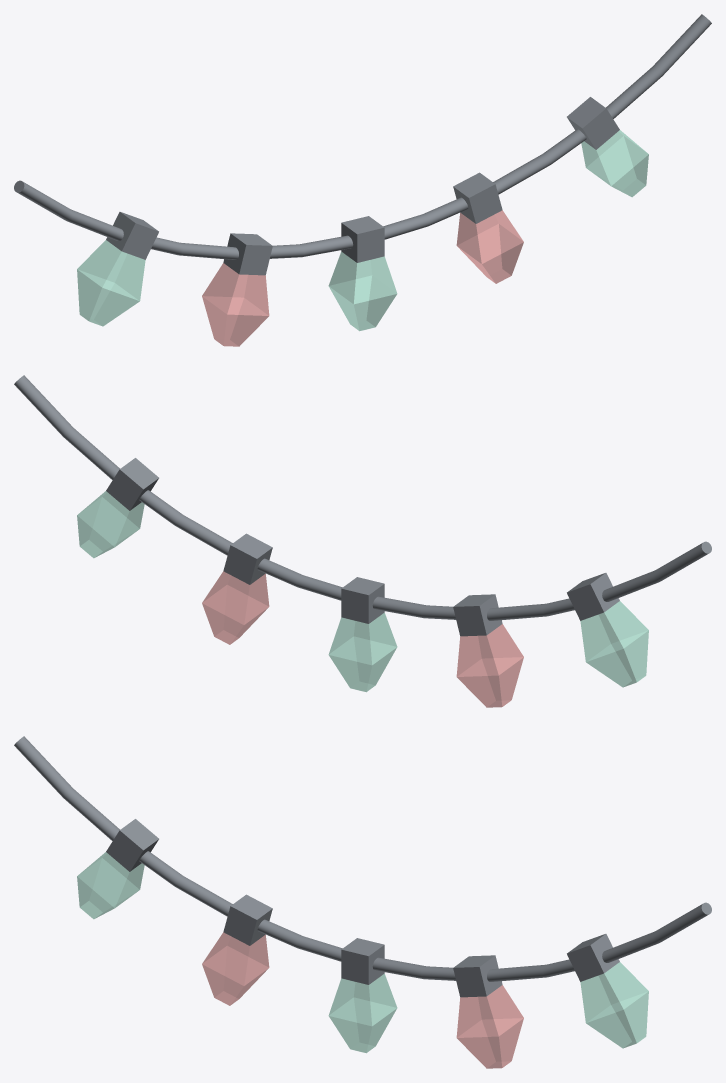
The model's file is lightsMulti.glb.
3 views of the same model, one above another, from view 1: azimuth 30°, elevation 25°; view 2: azimuth 150°, elevation 25°; view 3: azimuth 330°, elevation 25° (orthographic).
Visible parts, largest first — view 1: lightsMulti(Clone); view 2: lightsMulti(Clone); view 3: lightsMulti(Clone).
Part boxes in pixels (left/top/right/bottom): lightsMulti(Clone): left=14, top=14, right=711, bottom=346; lightsMulti(Clone): left=14, top=375, right=711, bottom=707; lightsMulti(Clone): left=14, top=736, right=711, bottom=1068.
Size of the model in its own units: 1.01 by 0.3162 by 0.0636.
